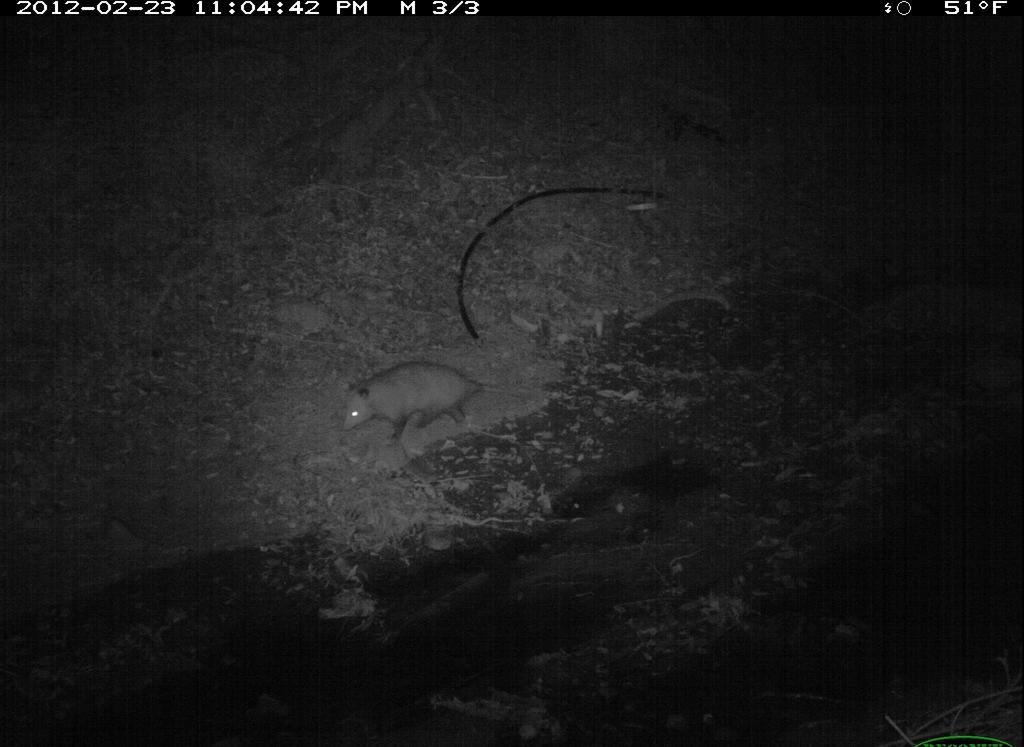opossum: (331, 353, 546, 459)
